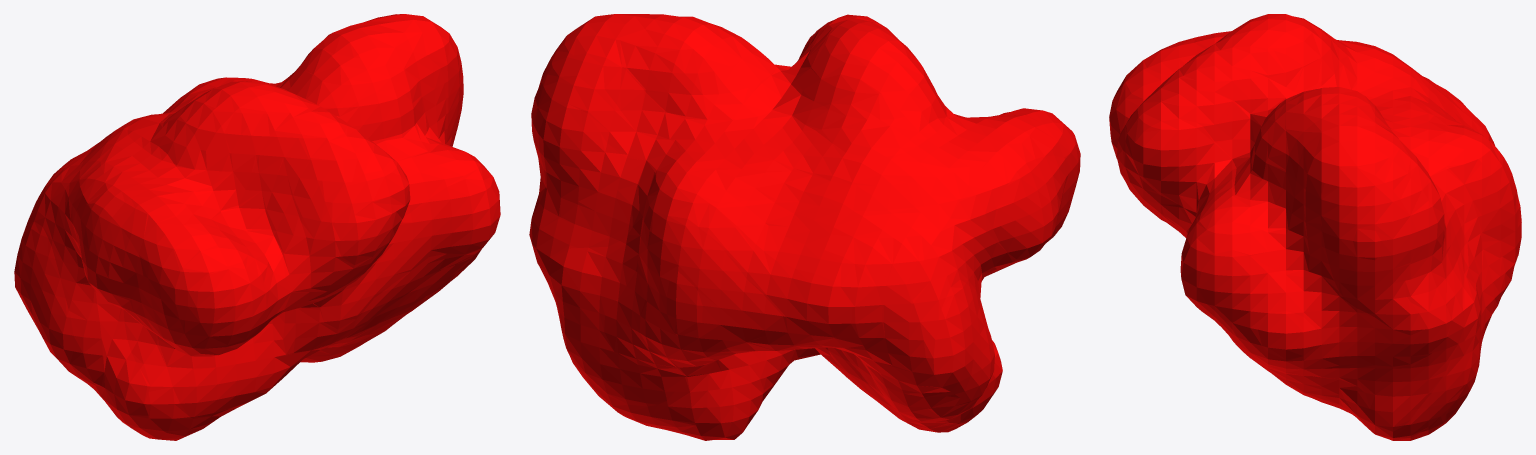
File: fliZ_coarse.dae
3 renders of one model, left to right at view 1: azimuth 30°, elevation 25°; view 2: azimuth 150°, elevation 25°; view 3: azimuth 270°, elevation 25°, orthographic. The views are drawn at different scales.
Visible parts, largest first — view 1: fliZ; view 2: fliZ; view 3: fliZ.
Part boxes in pixels (x1,y1,x2,y2): fliZ: [14, 14, 500, 440]; fliZ: [529, 14, 1080, 440]; fliZ: [1109, 14, 1521, 440].
Bounding box in the file's own units: 50.82 × 39.84 × 42.29.
